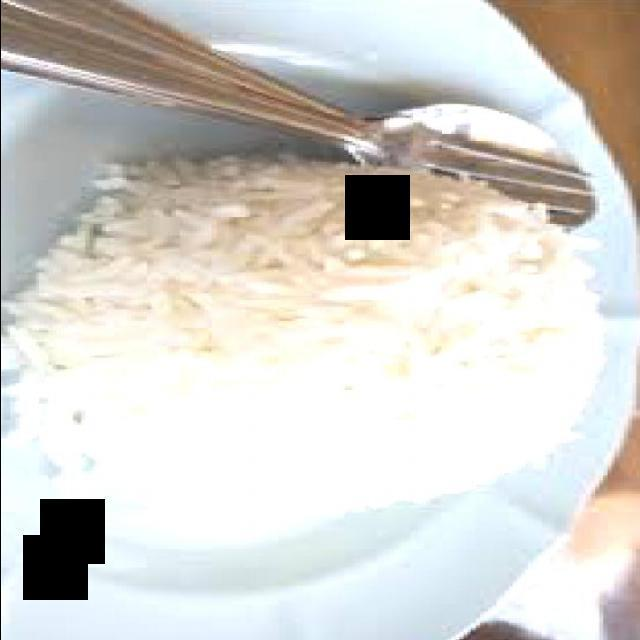Chicken -Chicken Inasal-: (11, 165, 579, 392)
